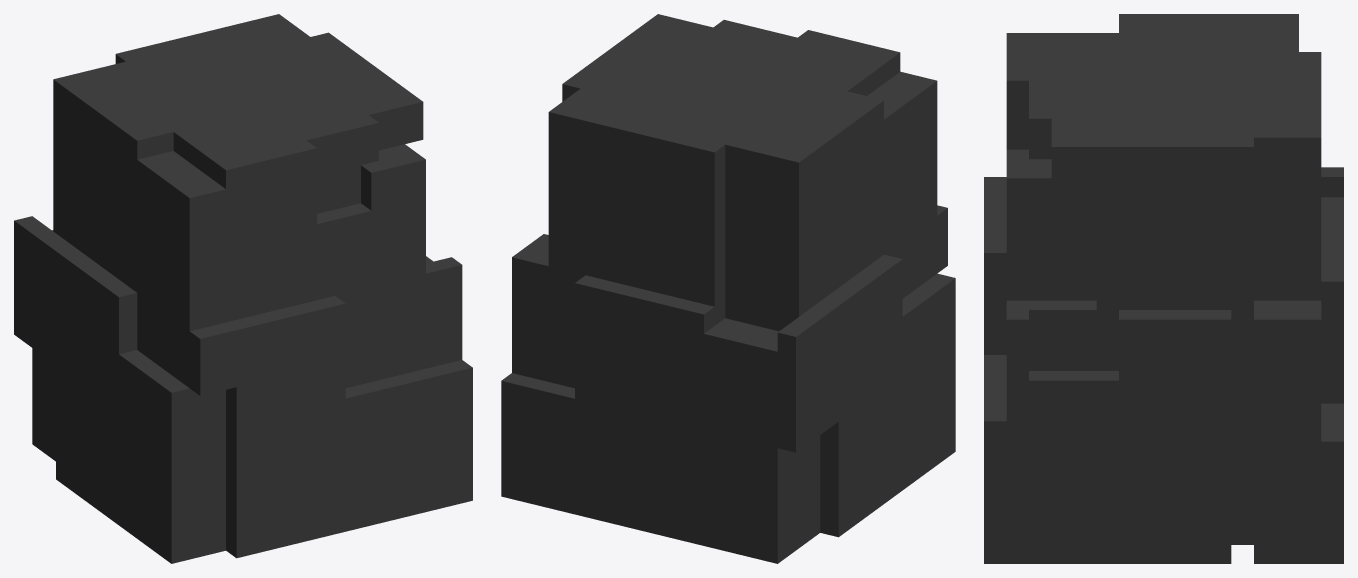
Rendered from hard_rock.obj.
The picture shows the model from 3 angles, left to right: view 1: azimuth 30°, elevation 25°; view 2: azimuth 150°, elevation 25°; view 3: azimuth 270°, elevation 25°; orthographic projection. The views are drawn at different scales.
Size of the model in its own units: 1.6 by 2 by 1.6.
Materials: 1 (1 with a texture image).
